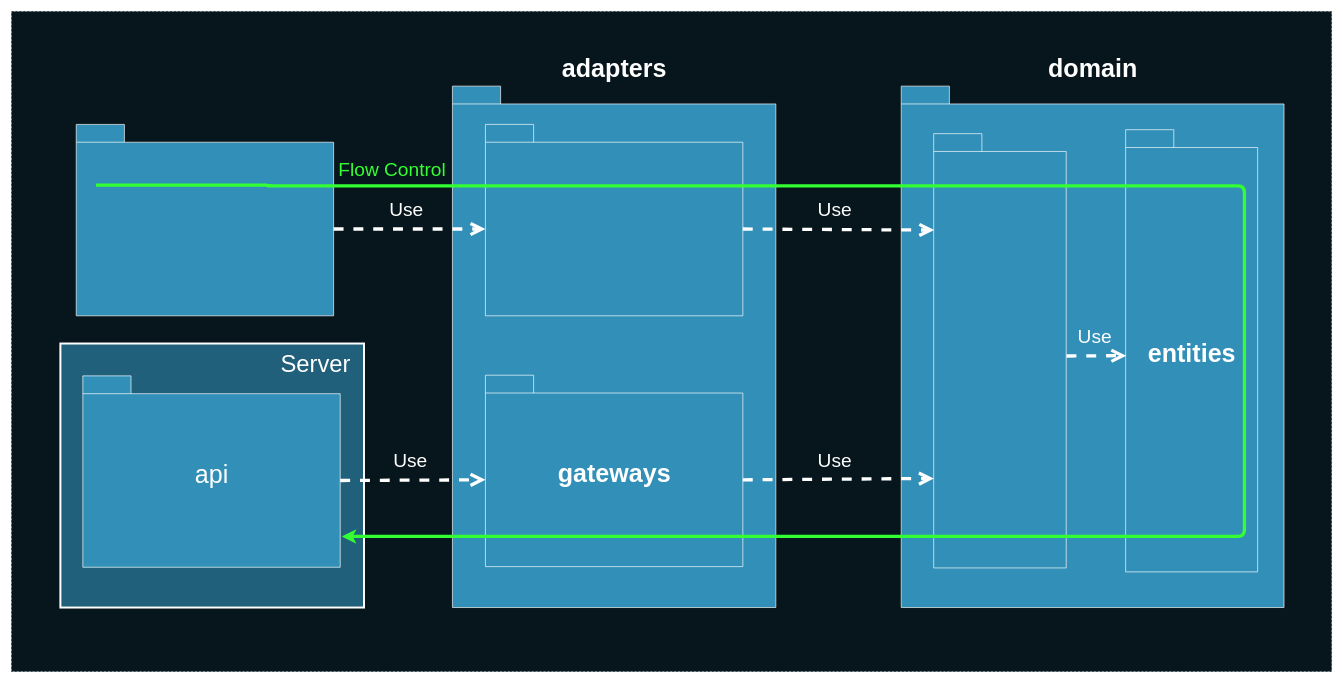
This 1343x683 diagram has some shape labels left out. Each missing label, with the centre of its shape:
"presenters" belongs at point (614, 220).
"ui" belongs at point (205, 220).
"usecases" belongs at point (999, 350).
